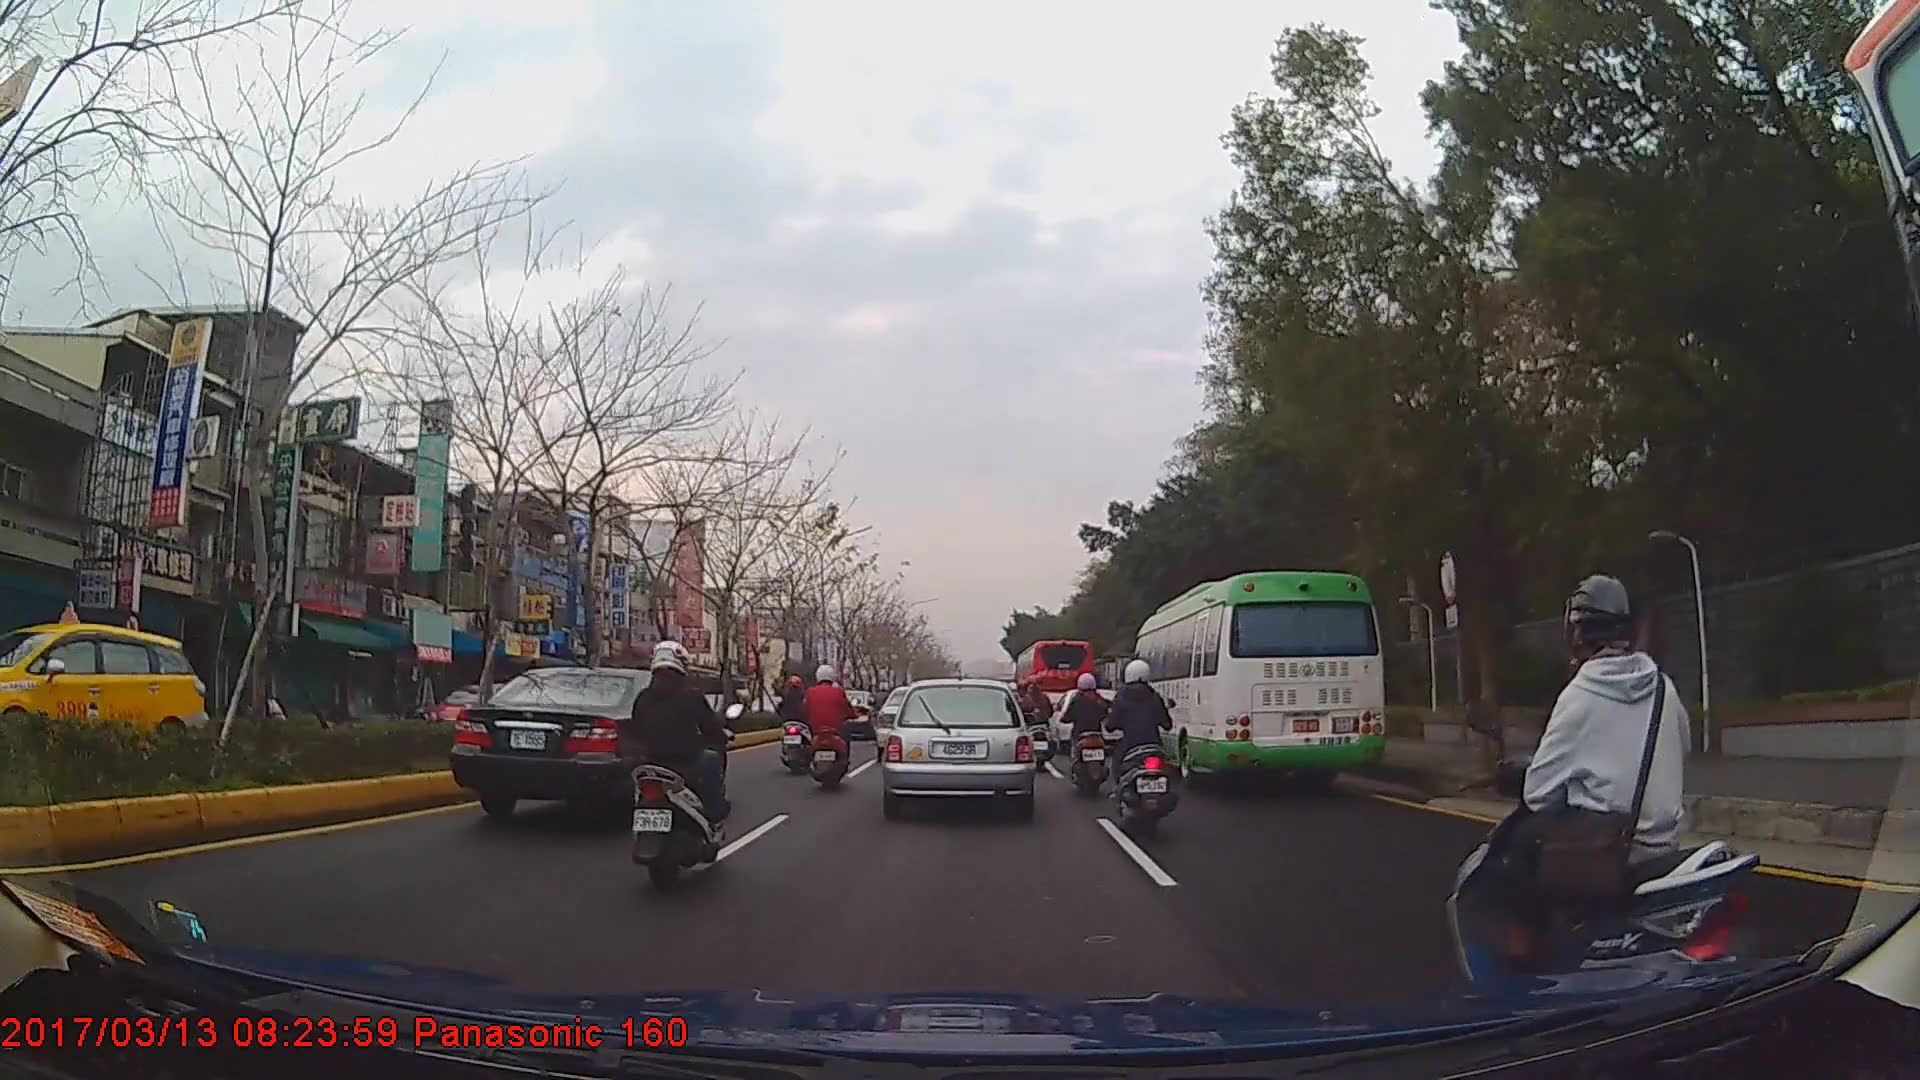rider: (1454, 572, 1767, 1000), (629, 634, 742, 891), (1107, 658, 1185, 837), (1060, 669, 1114, 798), (803, 663, 854, 792), (777, 675, 817, 774), (1014, 670, 1051, 769)
vehicle: (1125, 570, 1387, 798), (447, 662, 728, 830), (0, 597, 209, 755), (883, 677, 1031, 818), (1012, 630, 1097, 726)
